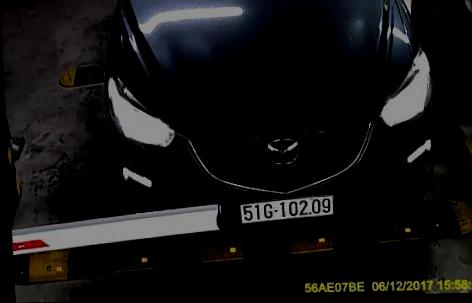License_Plate: (236, 193, 338, 225)
